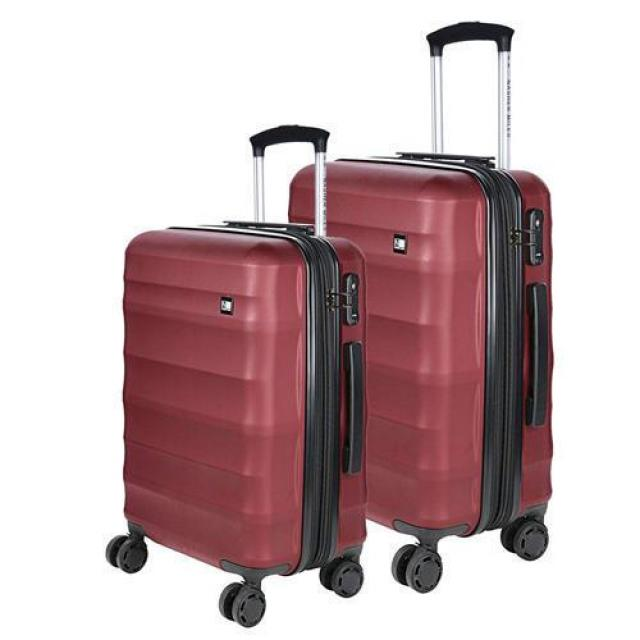luggage: (280, 144, 556, 540), (106, 214, 376, 583)
